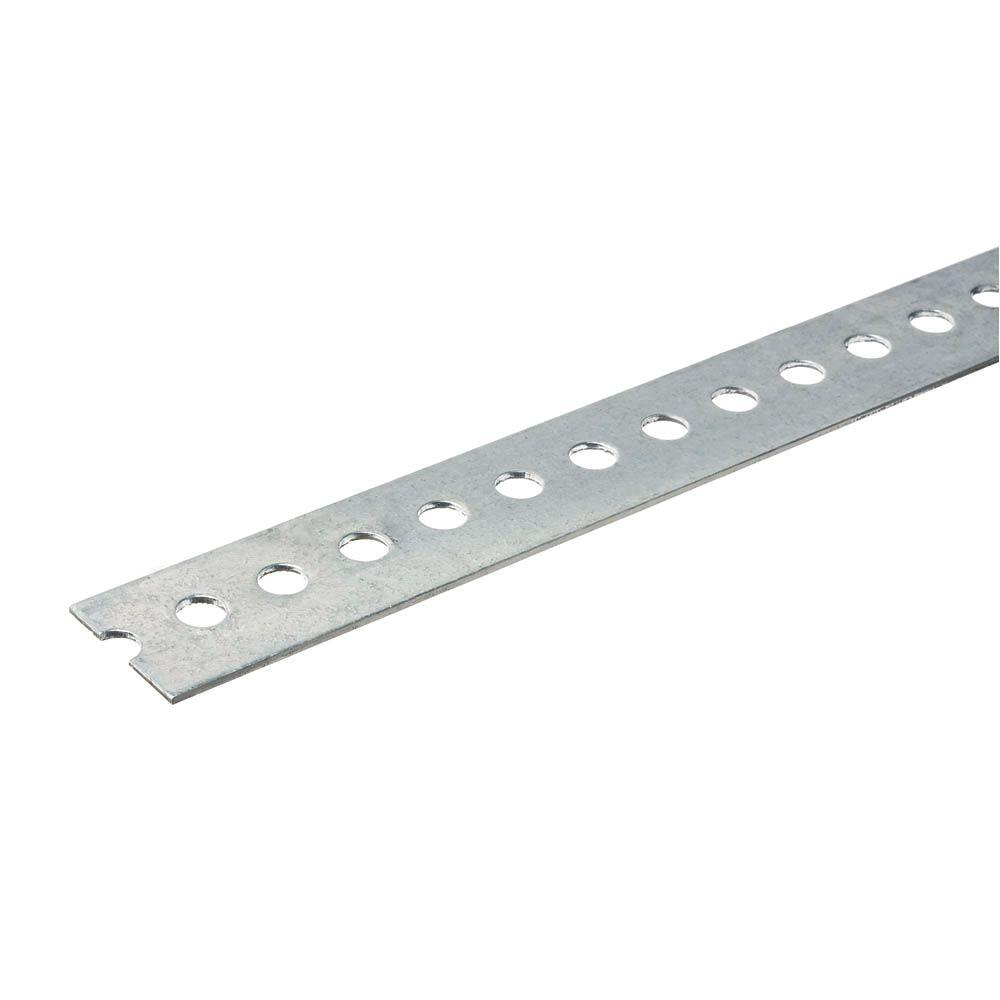metal: (67, 246, 1000, 704)
